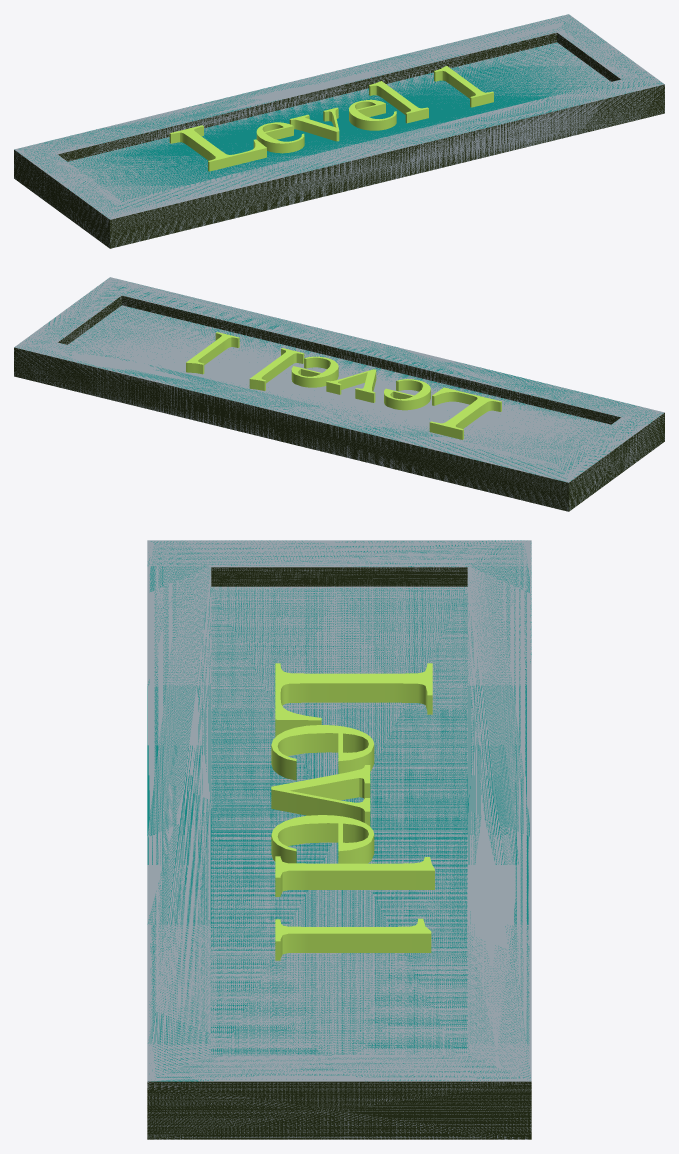
The model's file is Level 1.fbx.
The picture shows the model from 3 angles, top to bottom: view 1: azimuth 30°, elevation 25°; view 2: azimuth 150°, elevation 25°; view 3: azimuth 270°, elevation 25°; orthographic projection. The views are drawn at different scales.
Visible parts, largest first — view 1: Model, Level_1_1; view 2: Model, Level_1_1; view 3: Model, Level_1_1.
Boxes of the visible parts, x1=… form: Model: x1=14, y1=14, x2=664, y2=248; Level_1_1: x1=169, y1=66, x2=493, y2=171; Model: x1=14, y1=277, x2=664, y2=511; Level_1_1: x1=186, y1=332, x2=501, y2=439; Model: x1=147, y1=540, x2=531, y2=1139; Level_1_1: x1=271, y1=663, x2=434, y2=960.
Size of the model in its own units: 60 by 3.25 by 18.
